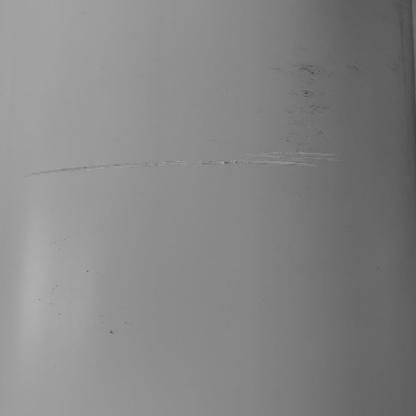sunshang: (29, 150, 342, 180)
